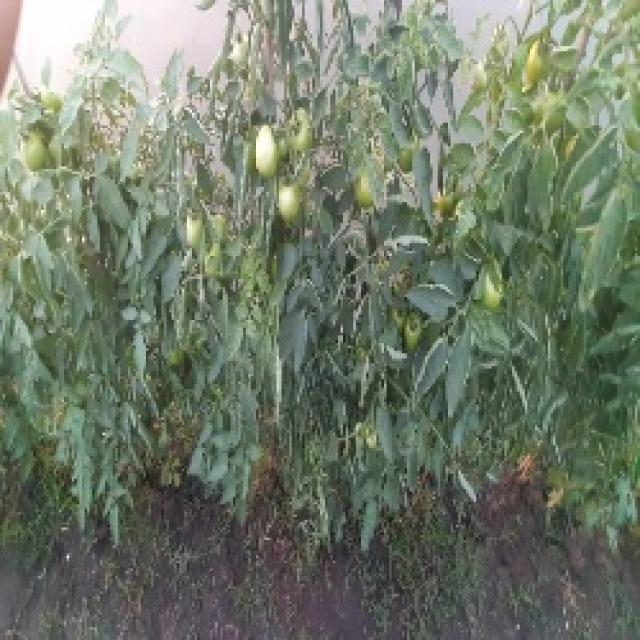tomato: (245, 125, 289, 188), (274, 184, 304, 231), (178, 210, 207, 254), (481, 268, 507, 313), (286, 108, 310, 156), (353, 179, 382, 216), (527, 37, 551, 77), (25, 135, 49, 165), (399, 143, 420, 175)
